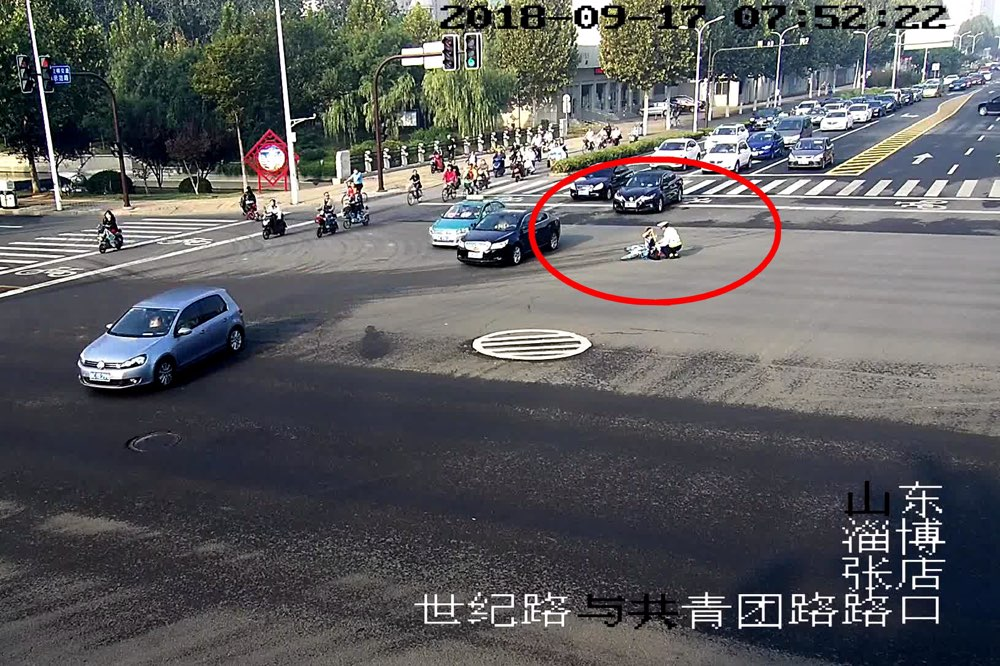10+: (67, 71, 784, 279)
down: (621, 215, 668, 268)
